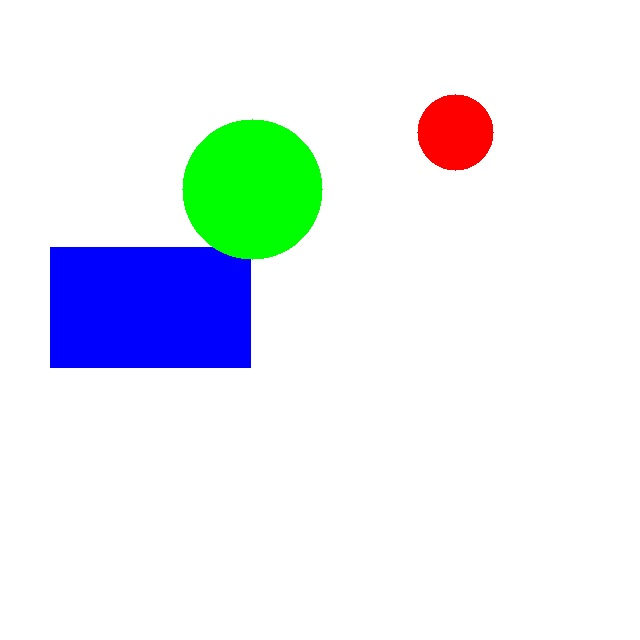cartao: (50, 247, 250, 367)
rosca_externa: (182, 119, 322, 259)
rosca_interna: (417, 94, 493, 170)
